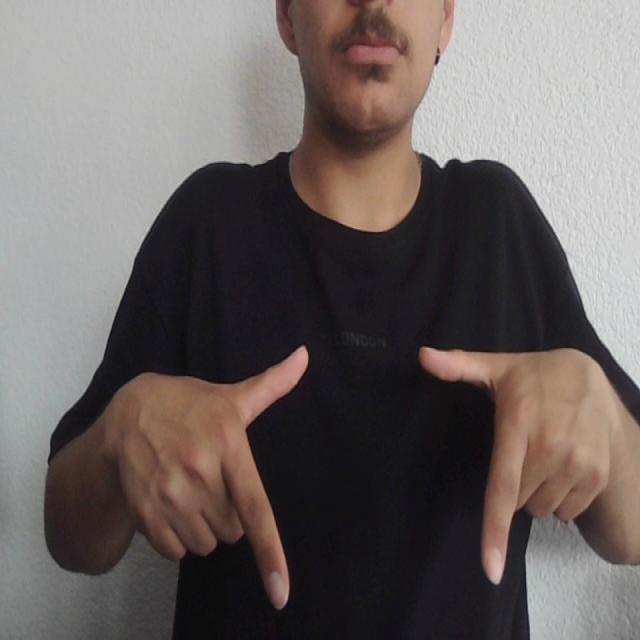Nerede: (211, 336, 538, 618)
